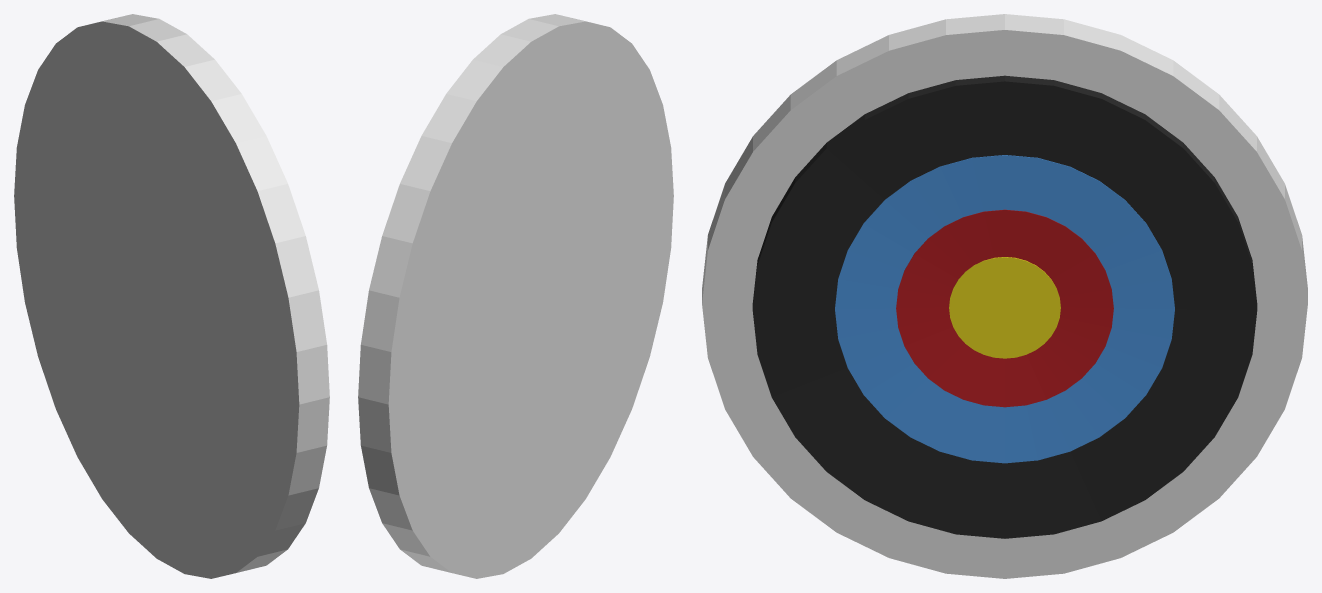
File: Diana.fbx
3 views of the same model, side by side, from view 1: azimuth 30°, elevation 25°; view 2: azimuth 150°, elevation 25°; view 3: azimuth 270°, elevation 25° (orthographic). The views are drawn at different scales.
Visible parts, largest first — view 1: Cylinder.004; view 2: Cylinder.004; view 3: Cylinder.005, Cylinder.004, Cylinder.006, Cylinder.010, Cylinder.007.
Boxes of the visible parts, <box> form: Cylinder.004: <box>14,14,329,578</box>; Cylinder.004: <box>358,14,673,578</box>; Cylinder.005: <box>752,75,1257,538</box>; Cylinder.004: <box>702,14,1307,578</box>; Cylinder.006: <box>835,155,1174,463</box>; Cylinder.010: <box>896,209,1113,407</box>; Cylinder.007: <box>949,257,1060,358</box>.
Bounding box in the file's own units: 20.01 × 237 × 237.
